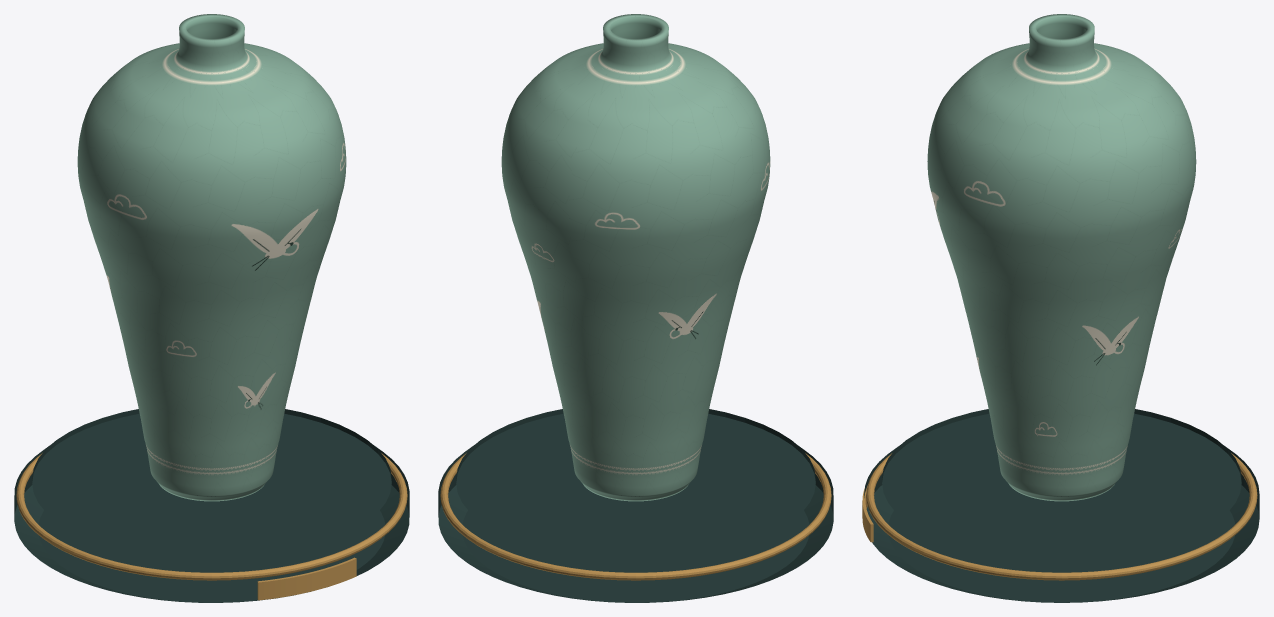
The model's file is korea.glb.
The picture shows the model from 3 angles, left to right: view 1: azimuth 30°, elevation 25°; view 2: azimuth 150°, elevation 25°; view 3: azimuth 270°, elevation 25°; orthographic projection.
Parts seen in each view (by area): view 1: Cloud-and-crane celadon; view 2: Cloud-and-crane celadon; view 3: Cloud-and-crane celadon.
Boxes of the visible parts, <box> form: Cloud-and-crane celadon: <box>14,14,409,602</box>; Cloud-and-crane celadon: <box>438,14,833,602</box>; Cloud-and-crane celadon: <box>862,14,1259,602</box>.
Bounding box in the file's own units: 2 × 2.8 × 2.01.
4 materials, 1 textured.
